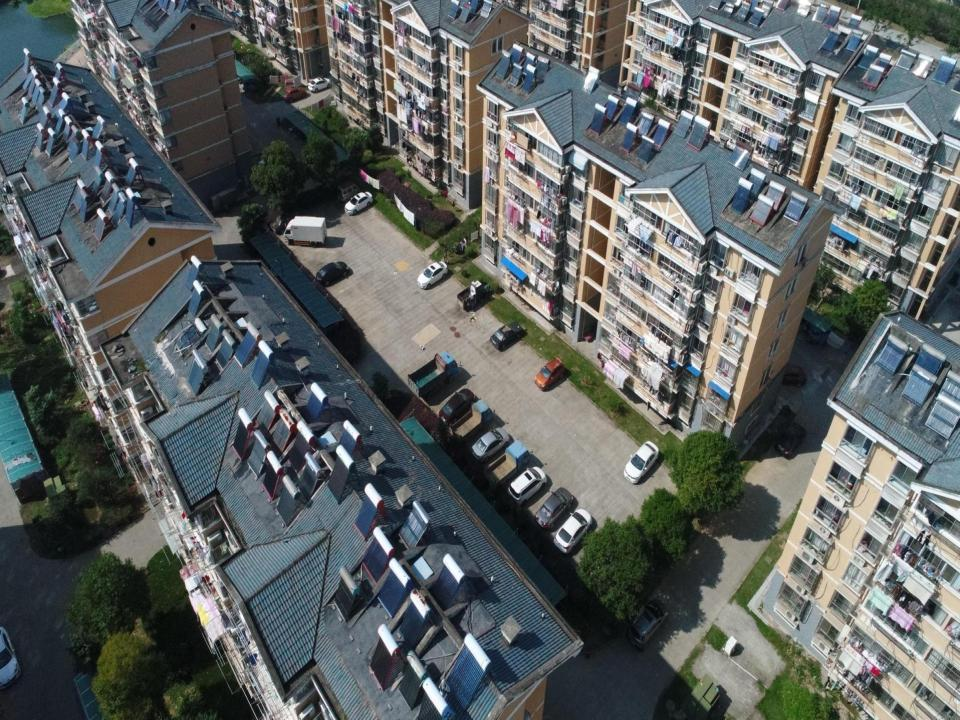car: (628, 597, 668, 650), (552, 508, 592, 555), (534, 488, 575, 532), (438, 388, 477, 432), (623, 440, 661, 485), (470, 425, 510, 467), (507, 466, 548, 506), (0, 628, 22, 690), (533, 356, 565, 393), (490, 320, 524, 352), (775, 422, 805, 458), (416, 259, 449, 290), (314, 259, 350, 286), (343, 188, 373, 215), (270, 210, 298, 234), (281, 86, 308, 104), (307, 75, 332, 93)
truck: (483, 438, 534, 498), (407, 349, 463, 400), (448, 399, 496, 451), (282, 215, 328, 249)
van: (773, 364, 807, 390), (335, 180, 364, 206)
